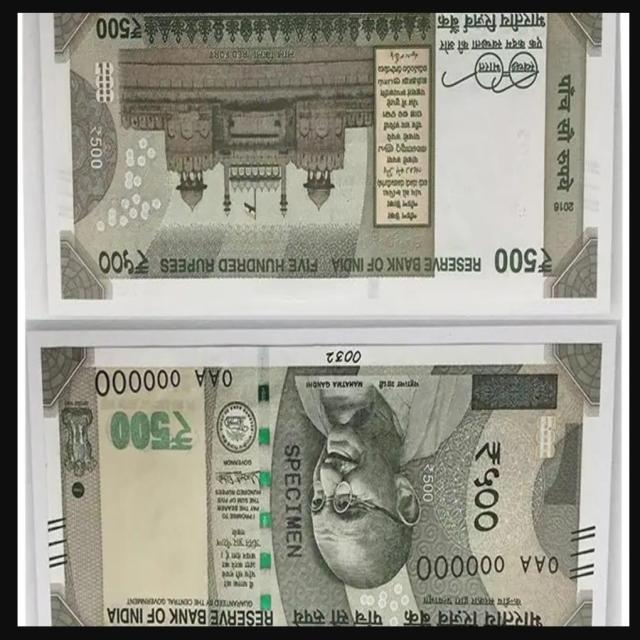500IndianRupees: (49, 12, 611, 307)
